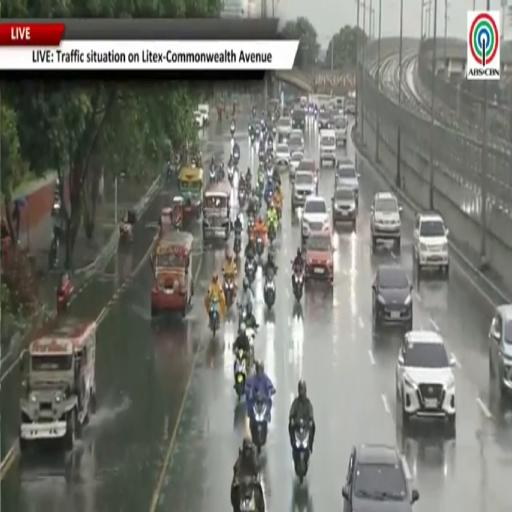car: (396, 331, 456, 431), (342, 444, 419, 511), (372, 265, 413, 331), (414, 213, 449, 277), (489, 304, 511, 396), (370, 192, 401, 250), (304, 233, 333, 285), (301, 196, 330, 242), (335, 159, 359, 206), (332, 187, 357, 231), (291, 171, 315, 209), (296, 158, 318, 185), (320, 131, 336, 167), (334, 116, 347, 147), (275, 143, 290, 167), (288, 133, 305, 153), (277, 117, 292, 139), (290, 151, 304, 174), (292, 106, 305, 130), (297, 158, 316, 173), (318, 112, 332, 130), (198, 104, 209, 126), (334, 96, 345, 115), (346, 96, 356, 116), (194, 110, 204, 127), (291, 130, 303, 139), (300, 96, 307, 108)
jeepney: (20, 319, 96, 450), (151, 231, 193, 316), (203, 183, 231, 241), (179, 166, 203, 217), (159, 207, 172, 237)
motorcycle: (293, 420, 310, 484), (250, 394, 268, 454), (238, 476, 264, 511), (234, 349, 247, 398), (57, 279, 74, 313), (264, 269, 275, 309), (209, 298, 220, 336), (292, 266, 303, 301), (48, 235, 59, 269), (224, 276, 235, 309), (245, 259, 257, 284), (120, 222, 133, 243), (255, 234, 264, 257), (239, 304, 247, 328), (234, 230, 241, 257), (233, 143, 240, 166), (265, 189, 273, 209), (245, 173, 252, 195), (268, 222, 275, 244), (217, 164, 225, 182), (239, 187, 246, 207), (209, 167, 217, 183), (259, 144, 266, 162), (228, 167, 234, 185), (248, 216, 254, 234), (266, 166, 273, 179), (254, 124, 260, 138), (239, 175, 245, 188), (230, 123, 235, 138), (250, 132, 255, 145), (272, 126, 276, 138)
